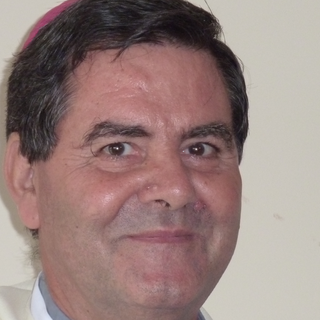eye: (178, 138, 225, 167), (92, 139, 144, 162)
